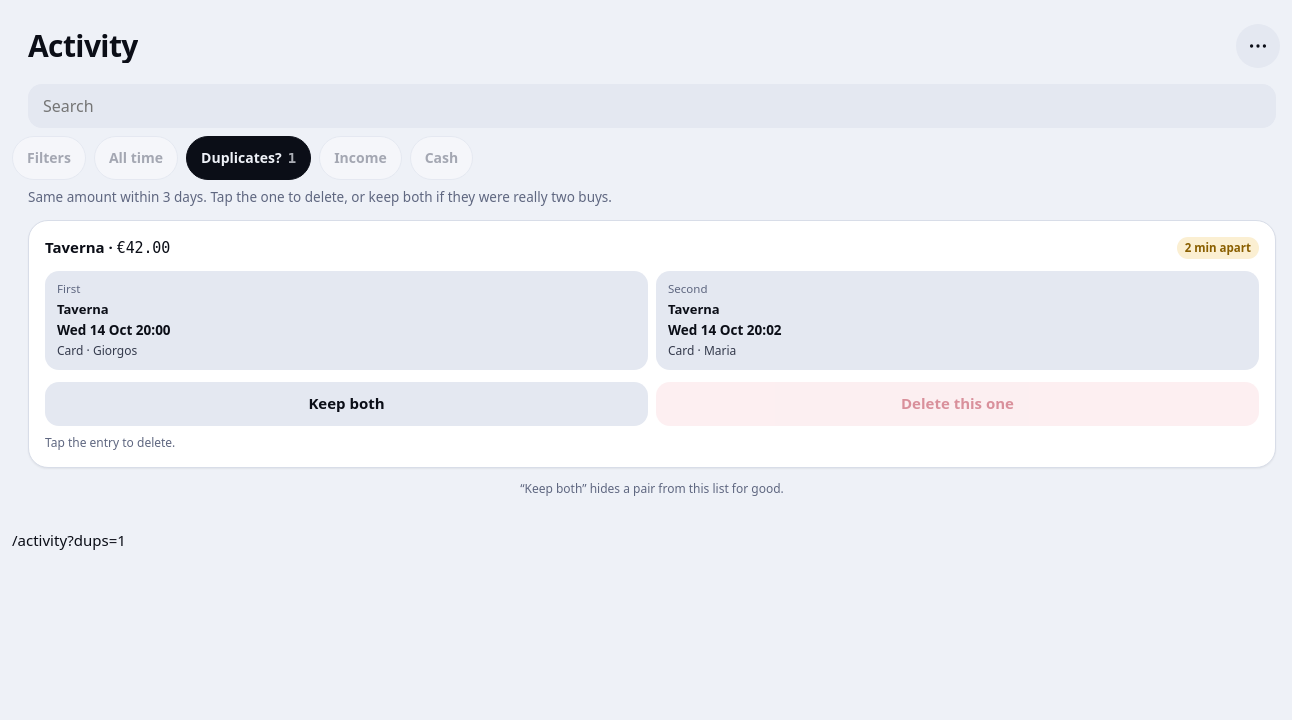
Scenario: Duplicates mode › tap a row to drop it, then confirm deletes that one (held, with Undo)
The image size is (1292, 720).
Click the button "Second Taverna Wed 14 Oct 20:02 Card · Maria" at (688, 289), box x1=656 y1=271 x2=1259 y2=370
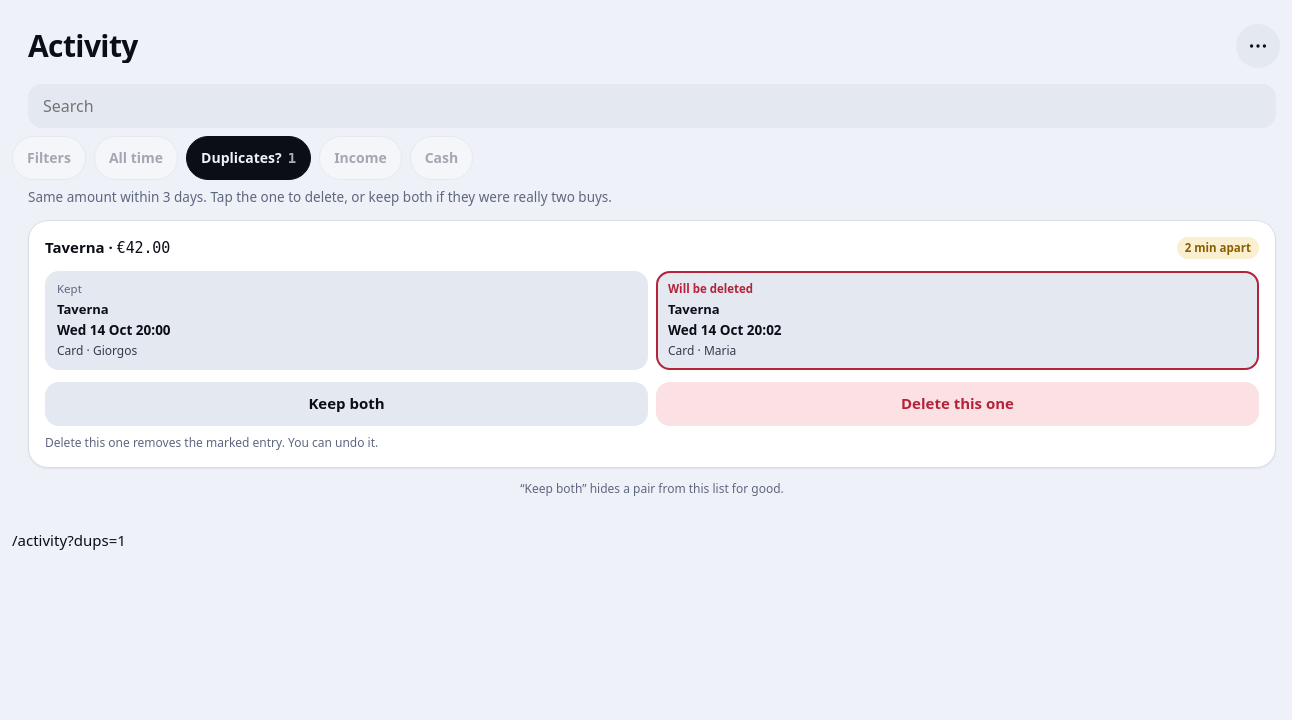
Expected: the text "Will be deleted" is shown, x1=668 y1=281 x2=753 y2=298
Click the button "Delete this one" at (958, 404), box x1=656 y1=382 x2=1259 y2=426
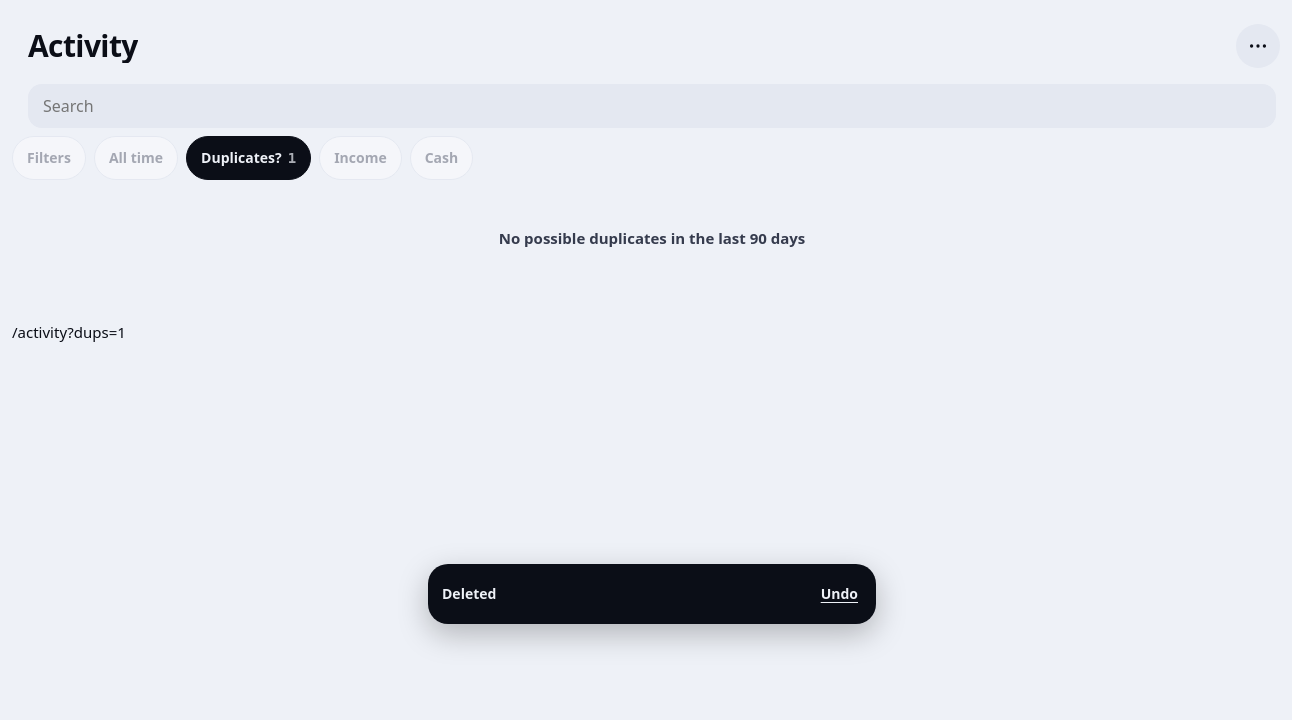
Expected: the button "Undo" is shown, x1=811 y1=572 x2=868 y2=616
Expected: the text "2 min apart" is gone
